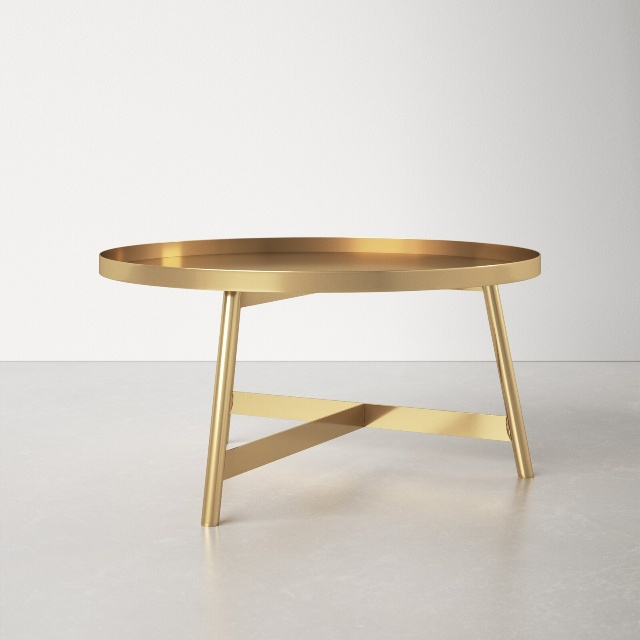obstacle: (100, 238, 540, 526)
